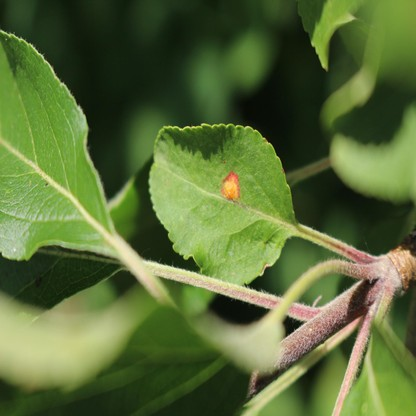rust: (221, 173, 239, 202)
